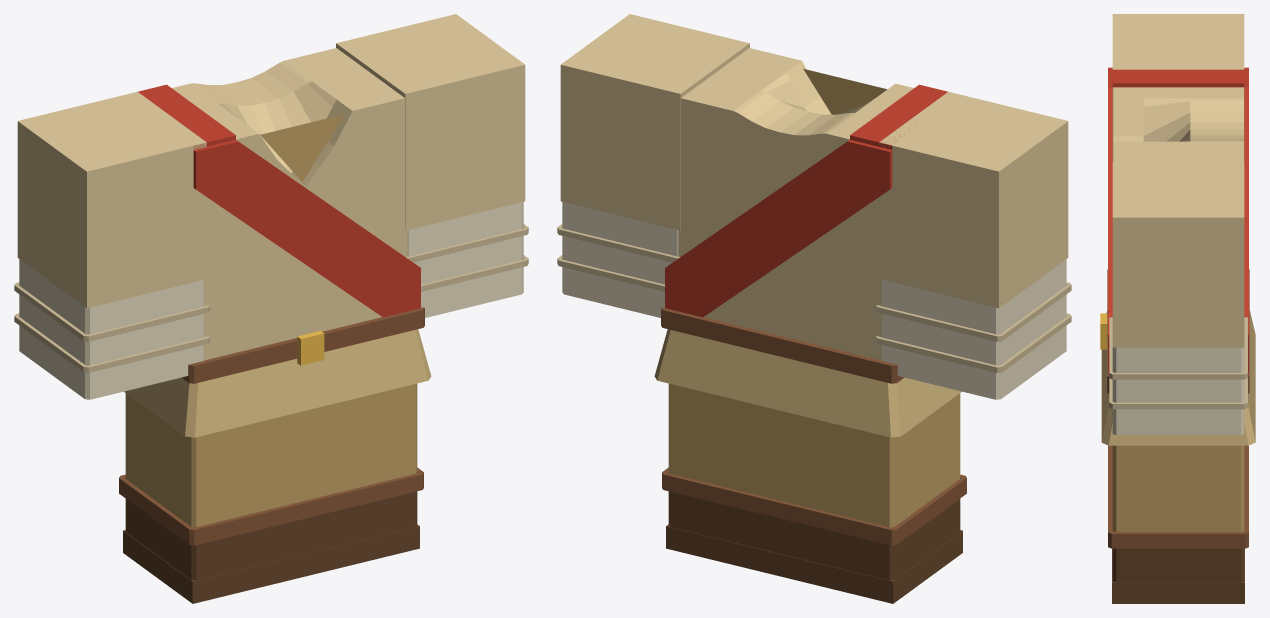
The model's file is w4_armor_nomad.fbx.
3 views of the same model, side by side, from view 1: azimuth 30°, elevation 25°; view 2: azimuth 150°, elevation 25°; view 3: azimuth 270°, elevation 25° (orthographic). The views are drawn at different scales.
Parts seen in each view (by area): view 1: NomadWraps.Robe, NomadWraps.SleeveR, NomadWraps.SleeveL, NomadWraps.Sash, NomadWraps.TrousersR, NomadWraps.Skirt, NomadWraps.WrapsR, NomadWraps.BootR, NomadWraps.TrousersL, NomadWraps.WrapsL, NomadWraps.BootL, NomadWraps.Belt (+6 smaller); view 2: NomadWraps.Robe, NomadWraps.SleeveR, NomadWraps.SleeveL, NomadWraps.Sash, NomadWraps.TrousersR, NomadWraps.Skirt, NomadWraps.WrapsR, NomadWraps.BootR, NomadWraps.TrousersL, NomadWraps.WrapsL, NomadWraps.BootL, NomadWraps.Belt (+5 smaller); view 3: NomadWraps.SleeveL, NomadWraps.TrousersL, NomadWraps.WrapsL, NomadWraps.Robe, NomadWraps.SleeveR, NomadWraps.BootL, NomadWraps.Sash, NomadWraps.Skirt, NomadWraps.CuffL, NomadWraps.WrapLinesL, NomadWraps.CuffR, NomadWraps.Belt (+1 smaller).
Part boxes in pixels (x1=…): NomadWraps.Robe: x1=172, y1=48, x2=407, y2=360; NomadWraps.SleeveR: x1=17, y1=91, x2=206, y2=308; NomadWraps.SleeveL: x1=336, y1=14, x2=525, y2=230; NomadWraps.Sash: x1=138, y1=84, x2=420, y2=317; NomadWraps.TrousersR: x1=125, y1=383, x2=309, y2=527; NomadWraps.Skirt: x1=124, y1=329, x2=431, y2=437; NomadWraps.WrapsR: x1=19, y1=259, x2=203, y2=399; NomadWraps.BootR: x1=123, y1=499, x2=313, y2=603; NomadWraps.TrousersL: x1=302, y1=383, x2=417, y2=501; NomadWraps.WrapsL: x1=407, y1=202, x2=523, y2=317; NomadWraps.BootL: x1=299, y1=491, x2=419, y2=577; NomadWraps.Belt: x1=181, y1=307, x2=424, y2=383; NomadWraps.Robe: x1=678, y1=48, x2=913, y2=360; NomadWraps.SleeveR: x1=879, y1=91, x2=1068, y2=308; NomadWraps.SleeveL: x1=560, y1=14, x2=749, y2=230; NomadWraps.Sash: x1=665, y1=84, x2=947, y2=317; NomadWraps.TrousersR: x1=776, y1=383, x2=960, y2=527; NomadWraps.Skirt: x1=654, y1=329, x2=961, y2=437; NomadWraps.WrapsR: x1=882, y1=259, x2=1066, y2=399; NomadWraps.BootR: x1=772, y1=499, x2=962, y2=603; NomadWraps.TrousersL: x1=668, y1=383, x2=783, y2=499; NomadWraps.WrapsL: x1=562, y1=202, x2=678, y2=317; NomadWraps.BootL: x1=666, y1=491, x2=786, y2=577; NomadWraps.Belt: x1=661, y1=307, x2=904, y2=383; NomadWraps.SleeveL: x1=1112, y1=162, x2=1244, y2=347; NomadWraps.TrousersL: x1=1112, y1=445, x2=1244, y2=531; NomadWraps.WrapsL: x1=1112, y1=347, x2=1244, y2=435; NomadWraps.Robe: x1=1113, y1=87, x2=1243, y2=161; NomadWraps.SleeveR: x1=1112, y1=14, x2=1244, y2=161; NomadWraps.BootL: x1=1112, y1=548, x2=1244, y2=603; NomadWraps.Sash: x1=1108, y1=67, x2=1248, y2=372; NomadWraps.Skirt: x1=1101, y1=310, x2=1255, y2=445; NomadWraps.CuffL: x1=1108, y1=474, x2=1248, y2=548; NomadWraps.WrapLinesL: x1=1109, y1=317, x2=1247, y2=409; NomadWraps.CuffR: x1=1108, y1=445, x2=1248, y2=484; NomadWraps.Belt: x1=1107, y1=269, x2=1249, y2=393.
Size of the model in its own units: 4.19 by 4.12 by 1.33.
